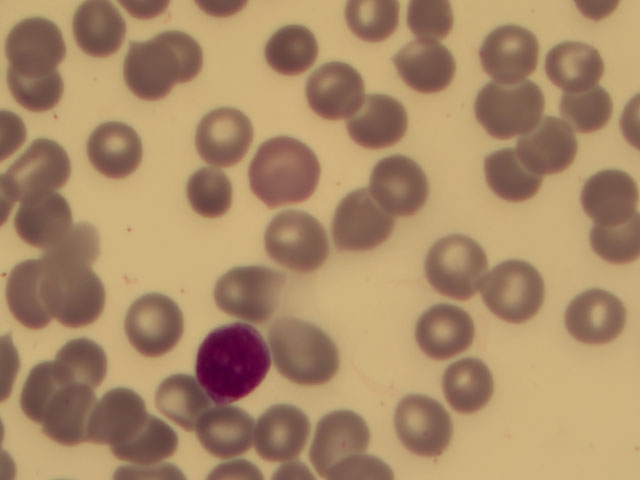RBC: (6, 16, 69, 78), (5, 52, 68, 114), (9, 140, 72, 202), (81, 122, 144, 184), (19, 185, 82, 247), (42, 216, 105, 278), (54, 265, 117, 327), (11, 263, 74, 325), (49, 329, 112, 391), (9, 358, 72, 420), (32, 379, 95, 441), (86, 387, 149, 449), (118, 410, 181, 472), (152, 375, 215, 437), (121, 298, 184, 360), (220, 261, 283, 323), (183, 168, 246, 230), (196, 98, 259, 160), (117, 39, 180, 101), (144, 24, 207, 86), (253, 20, 316, 82), (301, 58, 364, 120), (344, 90, 407, 152), (260, 142, 323, 204), (269, 209, 332, 271), (327, 192, 390, 254), (376, 154, 439, 216), (420, 231, 483, 293), (484, 264, 547, 326), (423, 297, 486, 359), (440, 347, 503, 409), (385, 390, 448, 452), (304, 405, 367, 467), (252, 400, 315, 462), (277, 325, 340, 387), (567, 286, 630, 348), (577, 217, 640, 279), (577, 167, 640, 229), (476, 143, 539, 205), (511, 121, 574, 183), (477, 79, 540, 141), (481, 21, 544, 83), (395, 39, 458, 101), (395, 1, 458, 63), (341, 3, 404, 65), (542, 28, 605, 90), (557, 76, 620, 138), (69, 1, 132, 62)
WBC: (193, 326, 272, 405)
